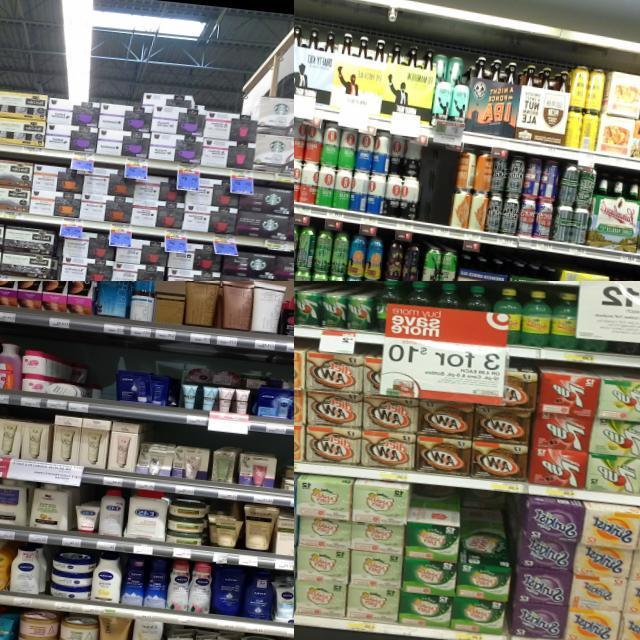empty: (416, 152, 456, 237), (96, 363, 120, 415)
